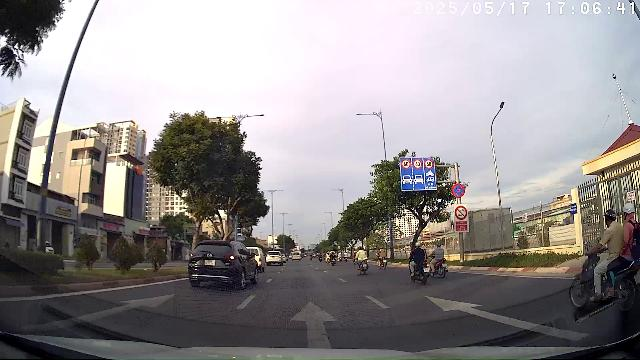127-toc-do-toi-da-50: (424, 159, 434, 169)
127-toc-do-toi-da-60: (413, 159, 422, 169), (402, 159, 411, 169)
130-cam-dung-va-do-xe: (452, 183, 464, 197)
